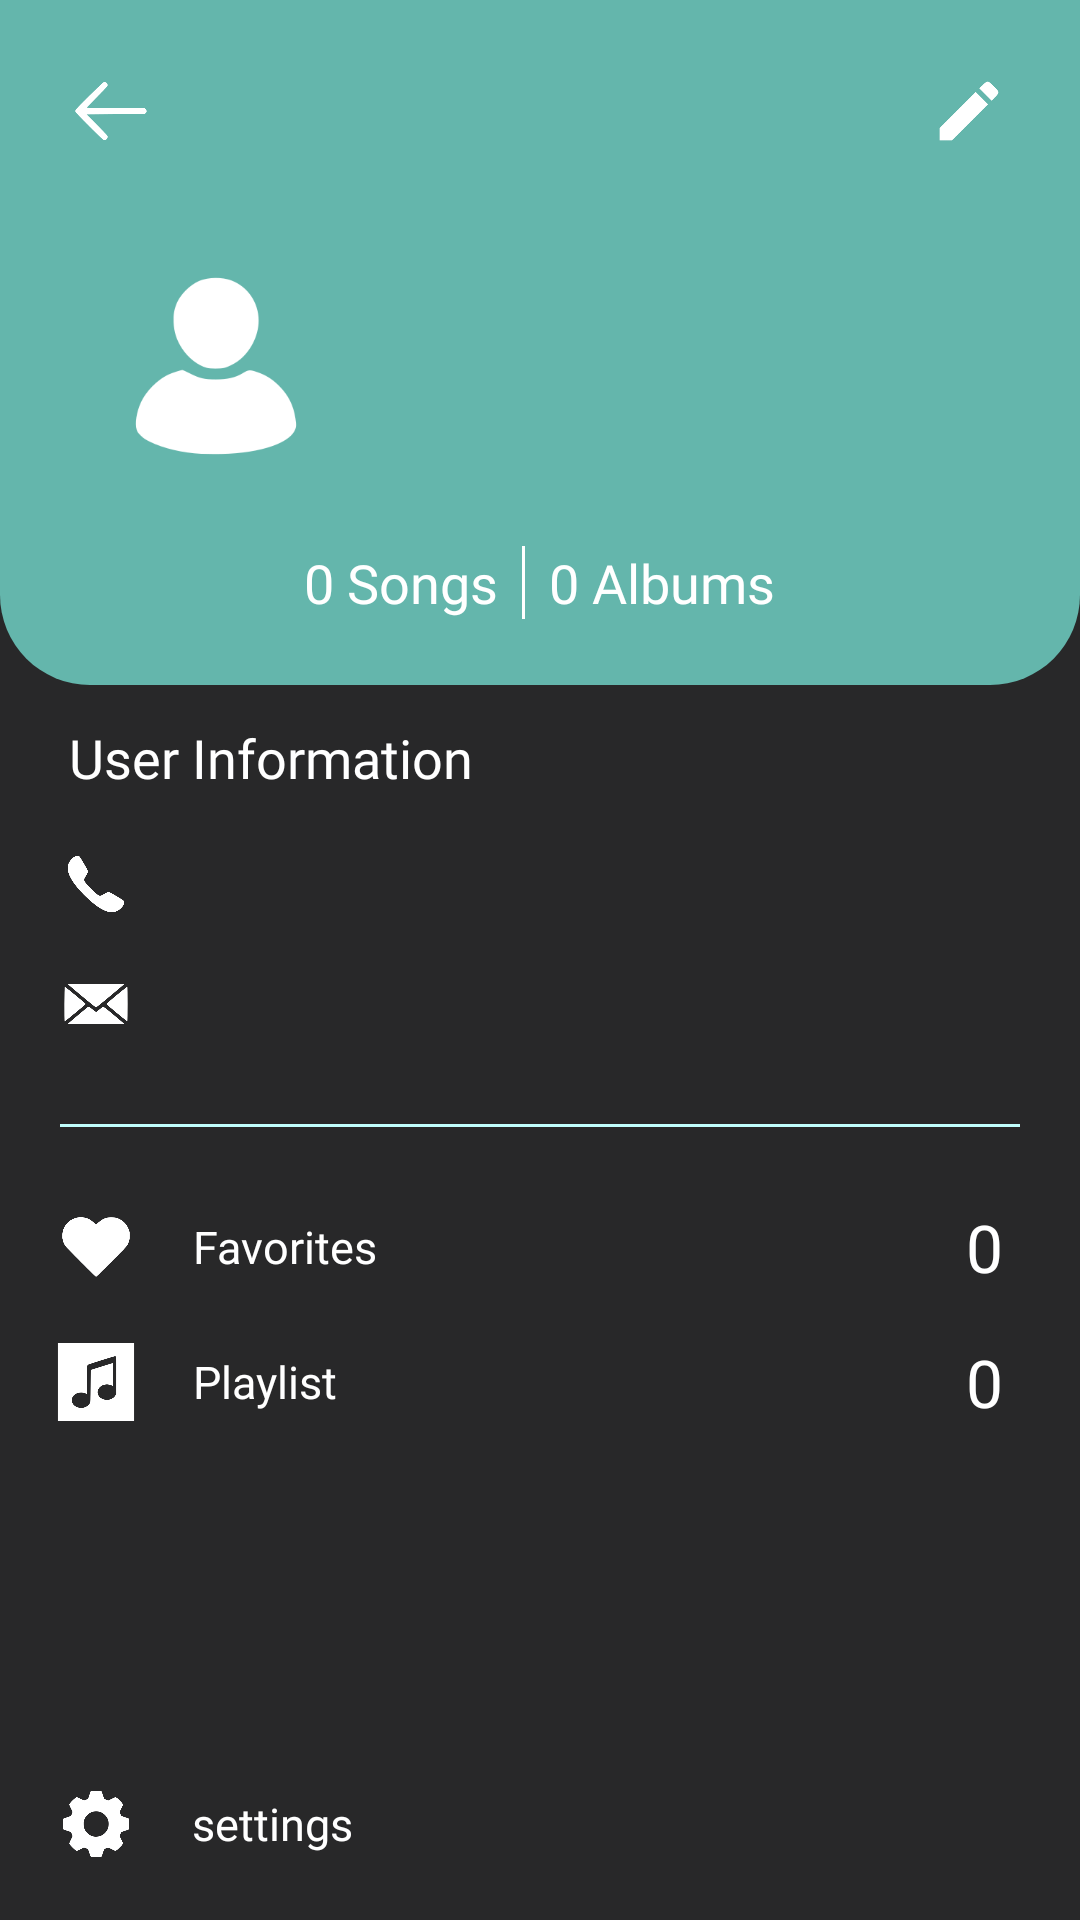

Named icons in this screenshot (1080px×1920px) and their centers, (x,y):
arrow: (111,111)
edit: (969,111)
email: (96,1004)
heart: (96,1247)
phone: (96,884)
profile: (216,366)
